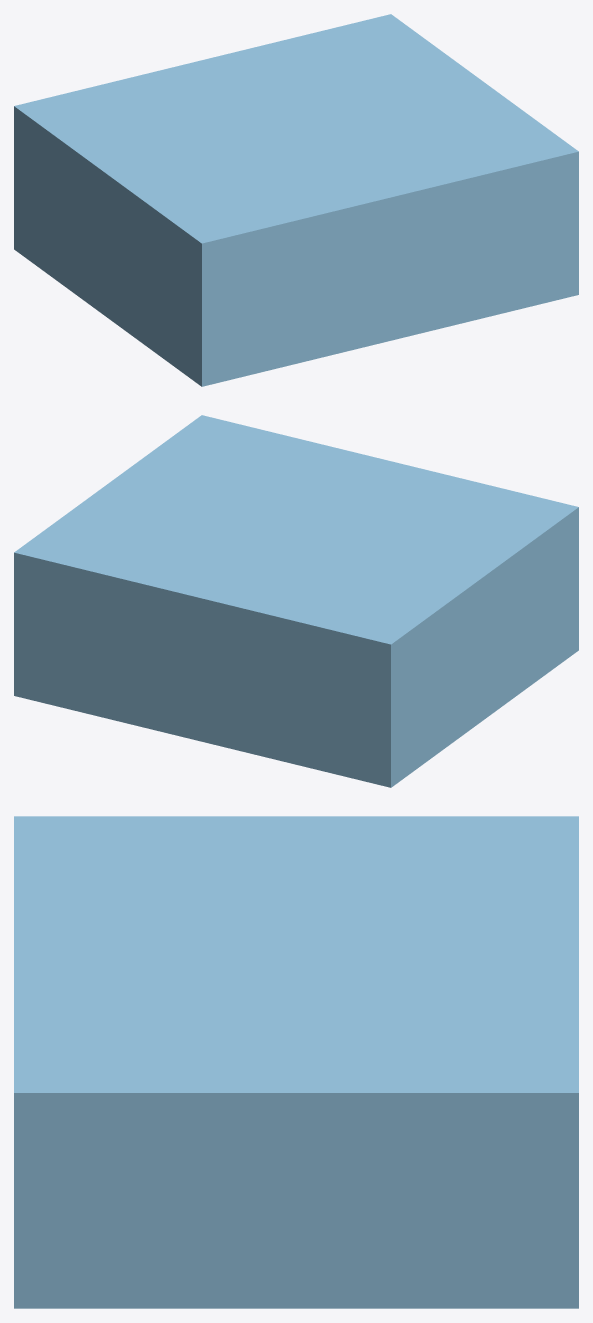
Rendered from written_by_0.1.1_material.glb.
3 renders of one model, top to bottom at view 1: azimuth 30°, elevation 25°; view 2: azimuth 150°, elevation 25°; view 3: azimuth 270°, elevation 25°, orthographic. The views are drawn at different scales.
Parts seen in each view (by area): view 1: Part 1; view 2: Part 1; view 3: Part 1.
Part boxes in pixels (x1,y1,x2,y2): Part 1: (14,14,578,386); Part 1: (14,415,578,787); Part 1: (14,816,578,1308).
Bounding box in the file's own units: 0.0699 × 0.0254 × 0.0604.
